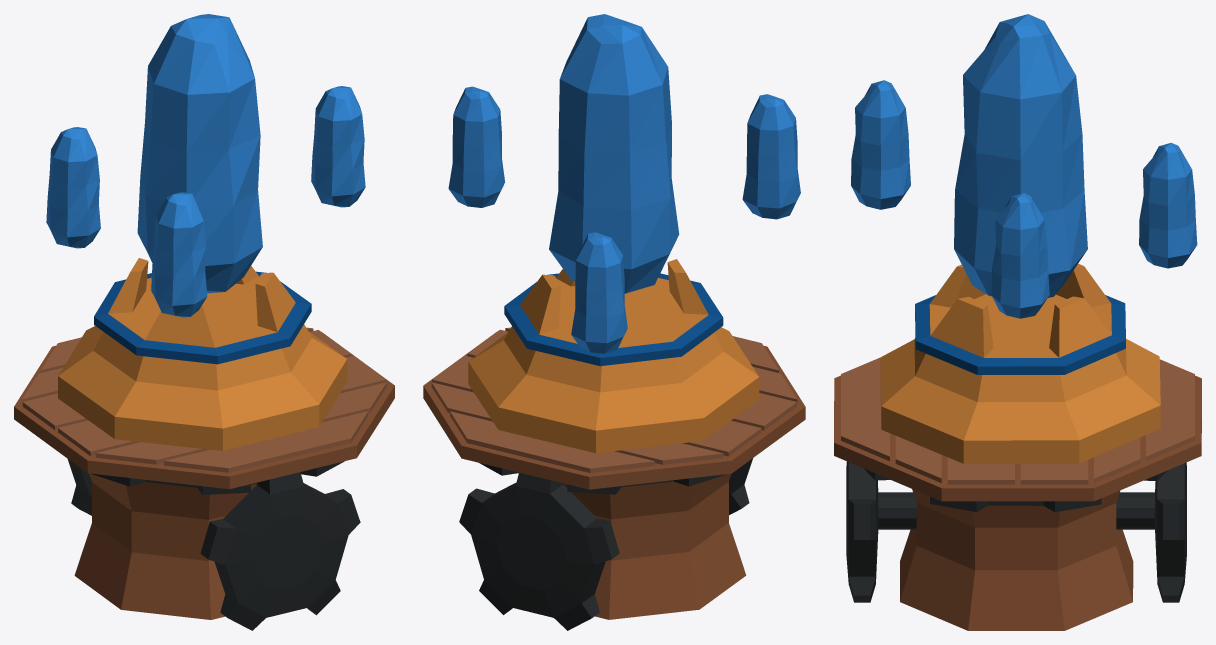
File: Support Level 2.FBX
The picture shows the model from 3 angles, left to right: view 1: azimuth 30°, elevation 25°; view 2: azimuth 150°, elevation 25°; view 3: azimuth 270°, elevation 25°; orthographic projection. The views are drawn at different scales.
Parts seen in each view (by area): view 1: MagicCrystal.002; view 2: MagicCrystal.002; view 3: MagicCrystal.002.
Boxes of the visible parts, <box> form: MagicCrystal.002: <box>14,14,394,630</box>; MagicCrystal.002: <box>423,14,805,630</box>; MagicCrystal.002: <box>834,14,1201,630</box>.
Bounding box in the file's own units: 200 × 331 × 195.
1 material, 1 textured.
